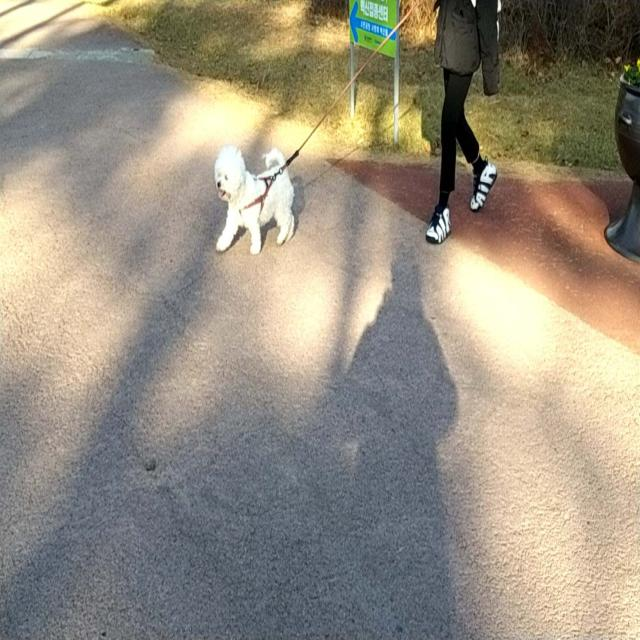Leashed_Dog: (214, 0, 450, 255)
